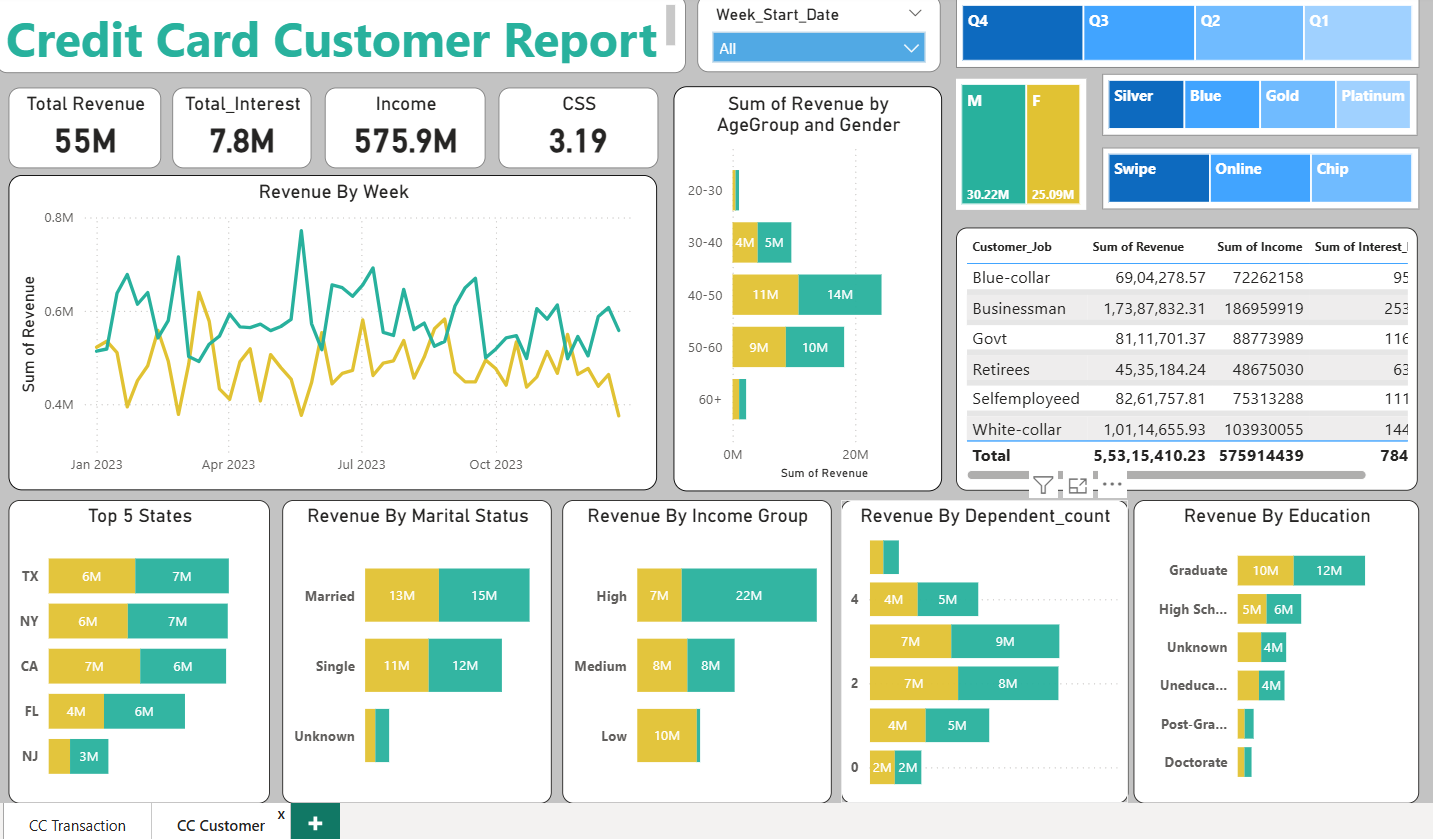

What the dashboard file says about the page in this screenshot:
{"tool":"powerbi","page":{"name":"CC Customer","canvas":[1280,720],"ordinal":1},"visuals":[{"type":"textbox","box":[0,0,614.1,70],"z":0},{"type":"barChart","title":"Revenue By Income Group","fields":{"Y":["Sum(credit_card.Revenue)"],"Category":["customer.IncomeGroup"],"Series":["customer.Gender"]},"box":[504.3,450,240.1,270.2],"z":1000},{"type":"tableEx","fields":{"Values":["customer.Customer_Job","Sum(credit_card.Revenue)","Sum(customer.Income)","Sum(credit_card.Interest_Earned)"]},"box":[855.4,207.5,411.4,234],"z":2000},{"type":"card","title":"Total Revenue","fields":{"Values":["Sum(credit_card.Revenue)"]},"box":[10.9,82,136.3,72.4],"z":3000},{"type":"card","title":"Total_Interest","fields":{"Values":["Sum(credit_card.Interest_Earned)"]},"box":[156.8,82,124.3,72.4],"z":4000},{"type":"card","title":"CSS","fields":{"Values":["Avg(customer.Cust_Satisfaction_Score)"]},"box":[447.6,82,142.4,72.4],"z":5000},{"type":"card","title":"Income","fields":{"Values":["Sum(customer.Income)"]},"box":[293.2,82,143.6,72.4],"z":6000},{"type":"treemap","fields":{"Group":["credit_card.Qtr"],"Values":["Avg(credit_card.Client_Num)"]},"box":[855.4,3.6,412.6,61.5],"z":7000},{"type":"treemap","fields":{"Group":["credit_card.Card_Category"],"Values":["Avg(credit_card.Client_Num)"]},"box":[985.7,70,281.1,55.5],"z":8000},{"type":"slicer","fields":{"Values":["credit_card.Week_Start_Date"]},"box":[624.9,0,217.2,68.8],"z":9000},{"type":"lineChart","title":"Revenue By Week","fields":{"Y":["Sum(credit_card.Revenue)"],"Series":["customer.Gender"],"Category":["credit_card.Week_Start_Date.Variation.Date Hierarchy.Year","credit_card.Week_Start_Date.Variation.Date Hierarchy.Month","credit_card.Week_Start_Date.Variation.Date Hierarchy.Day"]},"box":[10.9,160.5,577.9,281.1],"z":10000},{"type":"treemap","fields":{"Group":["customer.Gender"],"Values":["Sum(credit_card.Revenue)"]},"box":[855.4,74.8,115.8,117],"z":11000},{"type":"barChart","fields":{"Y":["Sum(credit_card.Revenue)"],"Category":["customer.AgeGroup"],"Series":["customer.Gender"]},"box":[603.2,80.8,238.9,360.7],"z":12000},{"type":"barChart","title":"Revenue By Dependent_count","fields":{"Y":["Sum(credit_card.Revenue)"],"Category":["customer.Dependent_Count"],"Series":["customer.Gender"]},"box":[752.8,450,255.8,270.2],"z":13000},{"type":"barChart","title":"Revenue By Education","fields":{"Y":["Sum(credit_card.Revenue)"],"Category":["customer.Education_Level"],"Series":["customer.Gender"]},"box":[1013.4,450,254.6,270.2],"z":14000},{"type":"barChart","title":"Top 5 States","fields":{"Y":["Sum(credit_card.Revenue)"],"Category":["customer.state_cd"],"Series":["customer.Gender"]},"box":[10.9,450,232.8,270.2],"z":15000},{"type":"barChart","title":"Revenue By Marital Status","fields":{"Y":["Sum(credit_card.Revenue)"],"Category":["customer.Marital_Status"],"Series":["customer.Gender"]},"box":[254.6,450,240.1,270.2],"z":16000},{"type":"treemap","fields":{"Values":["Avg(credit_card.Client_Num)"],"Group":["credit_card.Use Chip"]},"box":[985.7,136.3,282.3,55.5],"z":17000}]}

Visuals, with their boxes in screenshot pixels (x1, y1, x2, y2):
textbox: <box>11,0,689,74</box>
"Revenue By Income Group" barChart: <box>568,493,833,791</box>
tableEx - customer.Customer_Job x Sum(credit_card.Revenue): <box>956,225,1410,484</box>
"Total Revenue" card: <box>23,87,174,167</box>
"Total_Interest" card: <box>184,87,322,167</box>
"CSS" card: <box>505,87,663,167</box>
"Income" card: <box>335,87,493,167</box>
treemap - credit_card.Qtr x Avg(credit_card.Client_Num): <box>956,0,1411,68</box>
treemap - credit_card.Card_Category x Avg(credit_card.Client_Num): <box>1099,74,1410,135</box>
slicer - credit_card.Week_Start_Date: <box>701,0,941,72</box>
"Revenue By Week" lineChart: <box>23,173,661,484</box>
treemap - customer.Gender x Sum(credit_card.Revenue): <box>956,79,1083,208</box>
barChart - Sum(credit_card.Revenue) x customer.AgeGroup: <box>677,85,941,484</box>
"Revenue By Dependent_count" barChart: <box>842,493,1125,791</box>
"Revenue By Education" barChart: <box>1130,493,1411,791</box>
"Top 5 States" barChart: <box>23,493,280,791</box>
"Revenue By Marital Status" barChart: <box>292,493,557,791</box>
treemap - Avg(credit_card.Client_Num) x credit_card.Use Chip: <box>1099,147,1411,208</box>
